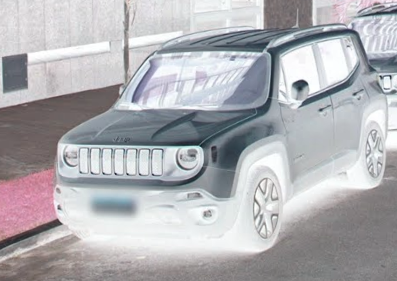car: (54, 22, 389, 248)
